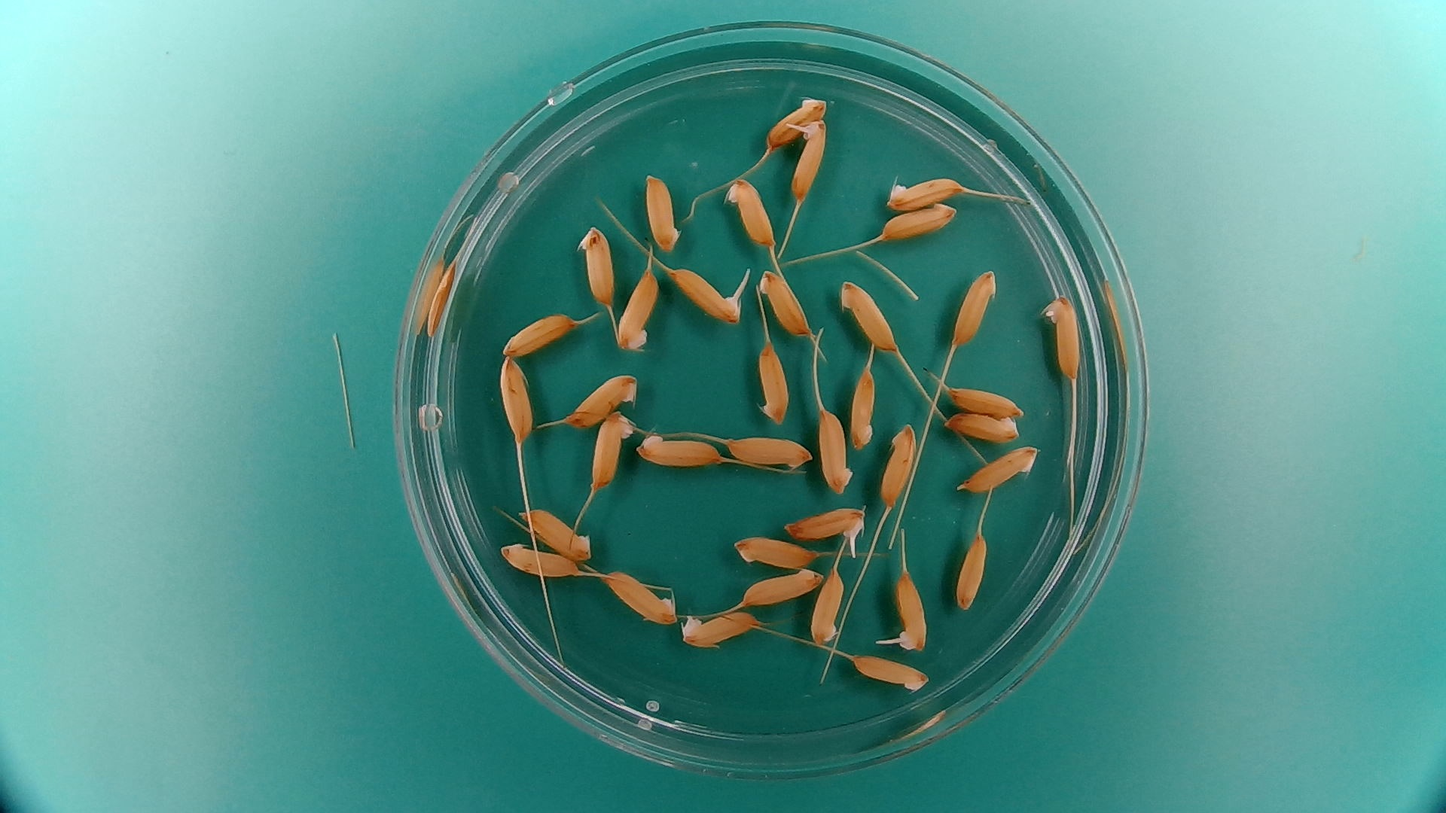no: (835, 274, 901, 355), (560, 370, 642, 431), (599, 566, 678, 625), (612, 263, 664, 352), (955, 443, 1042, 494), (949, 265, 1001, 349), (519, 504, 594, 562), (1038, 290, 1085, 382), (721, 173, 778, 248), (758, 266, 816, 339), (498, 307, 578, 358), (587, 410, 637, 491), (634, 427, 726, 470), (679, 605, 764, 650), (725, 431, 815, 473), (879, 419, 920, 511), (575, 223, 618, 310), (736, 565, 825, 607), (817, 403, 856, 497), (876, 201, 960, 244), (761, 97, 830, 148), (728, 532, 816, 571), (496, 355, 535, 443), (848, 652, 929, 694), (642, 172, 684, 253), (880, 172, 964, 212), (807, 568, 847, 650), (755, 340, 793, 426), (496, 543, 581, 580), (944, 382, 1027, 419), (941, 409, 1025, 444), (848, 362, 880, 452), (953, 531, 989, 611)
yes: (676, 266, 749, 327), (789, 118, 830, 205), (786, 507, 868, 545), (895, 567, 929, 654)
